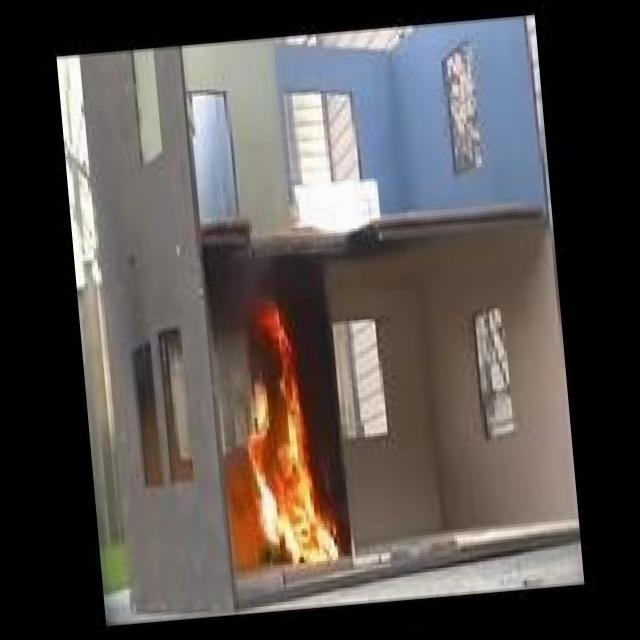fire: (220, 284, 354, 589)
